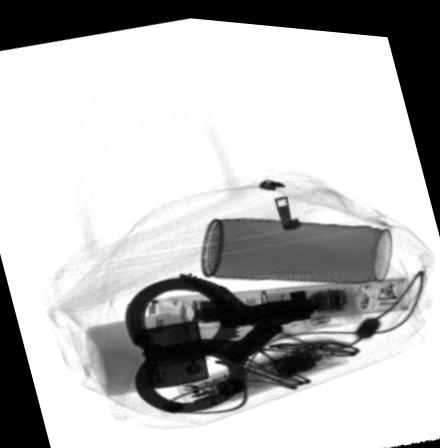Baton: (129, 268, 413, 335)
HandCuffs: (120, 274, 352, 408)
Lighter: (140, 317, 212, 386)
